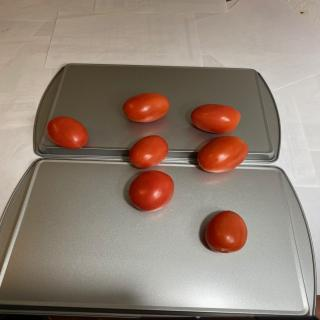Tomato: (128, 170, 174, 212), (197, 136, 249, 173), (205, 210, 248, 253), (191, 103, 241, 134), (122, 92, 170, 122), (46, 116, 88, 150), (129, 135, 169, 169)
